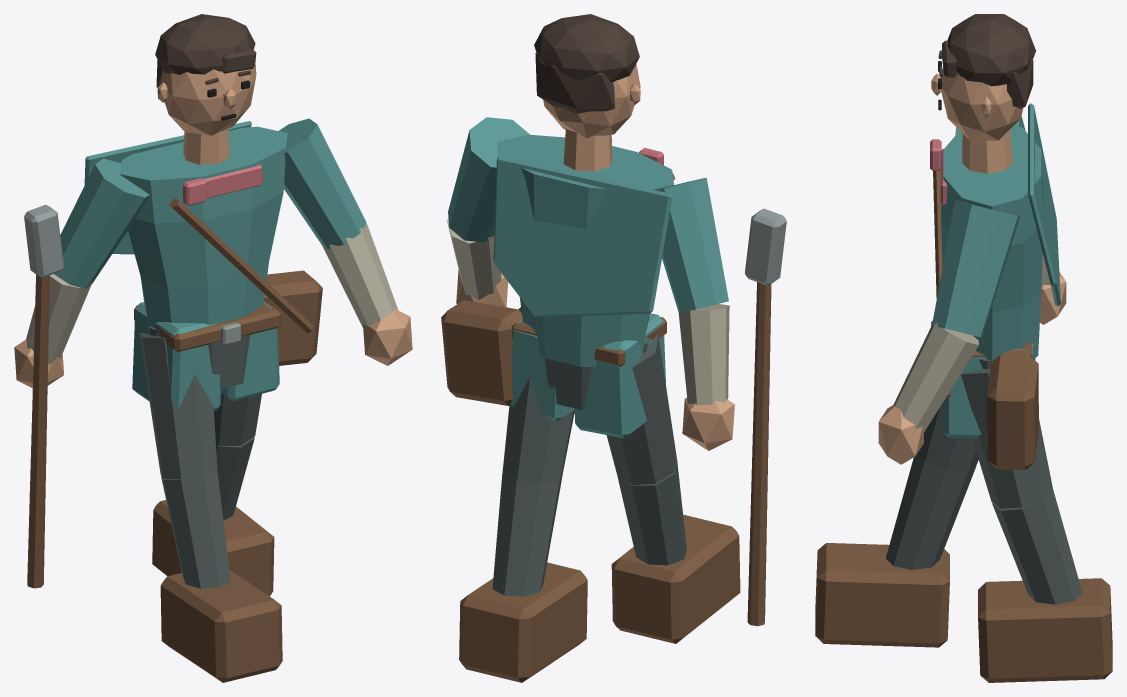
The model's file is npc_scout_step_l_v01.glb.
3 views of the same model, side by side, from view 1: azimuth 30°, elevation 25°; view 2: azimuth 150°, elevation 25°; view 3: azimuth 270°, elevation 25° (orthographic). The views are drawn at different scales.
Parts seen in each view (by area): view 1: GEO_npc_scout_step_l_v01; view 2: GEO_npc_scout_step_l_v01; view 3: GEO_npc_scout_step_l_v01.
Part boxes in pixels (box(x1,y1,x2,y2)): GEO_npc_scout_step_l_v01: box(14, 14, 412, 682); GEO_npc_scout_step_l_v01: box(441, 14, 786, 682); GEO_npc_scout_step_l_v01: box(815, 14, 1112, 682).
Size of the model in its own units: 1.25 by 2.06 by 0.8774.
